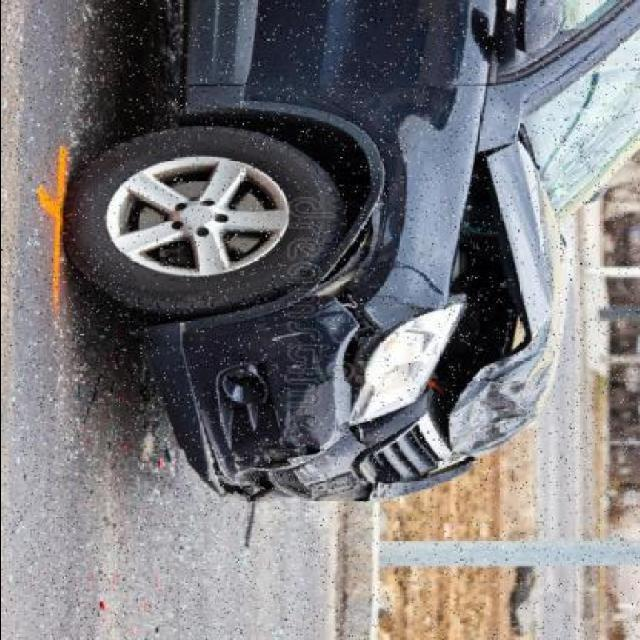Headlight-Damage: (348, 291, 472, 432)
bonnet-dent: (431, 140, 587, 467)
fender-dent: (292, 86, 493, 284)
front-bumper-dent: (173, 288, 373, 515)
